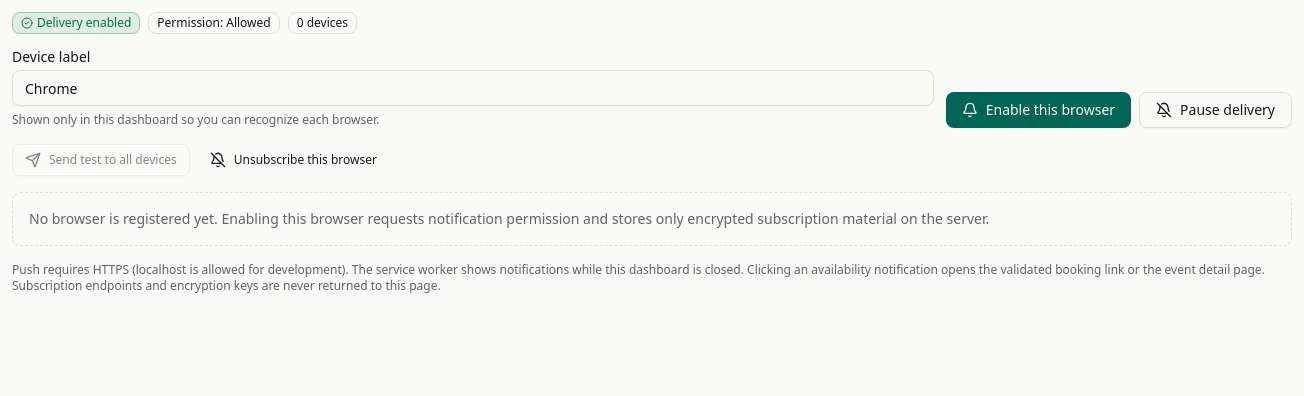
Test: PushSettings › shows permission denial guidance without saving
The width and height of the screenshot is (1304, 396).
Click the button "Enable this browser".
click(1038, 110)  # box [946, 92, 1131, 128]
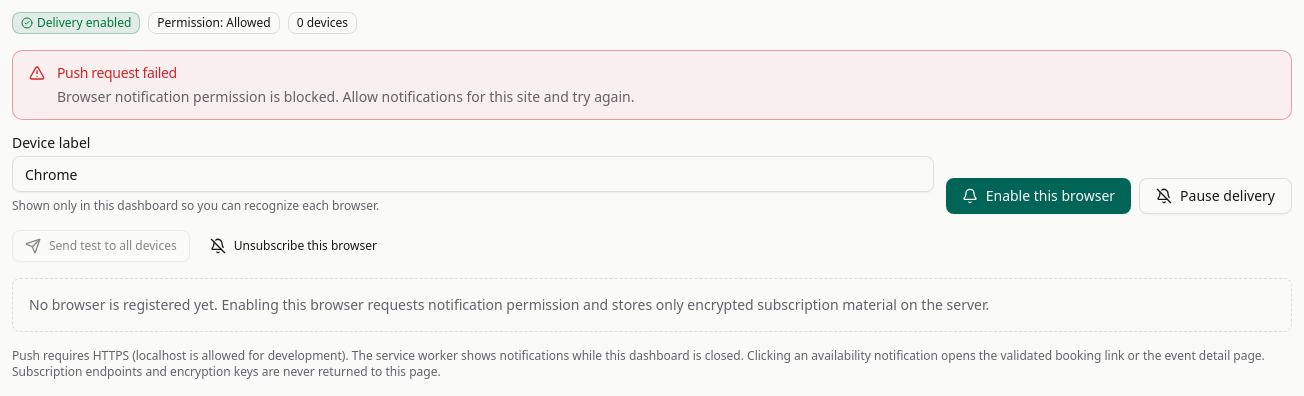
Expected: the text "Browser notification permission is blocked" is shown, [57, 87, 634, 106]
